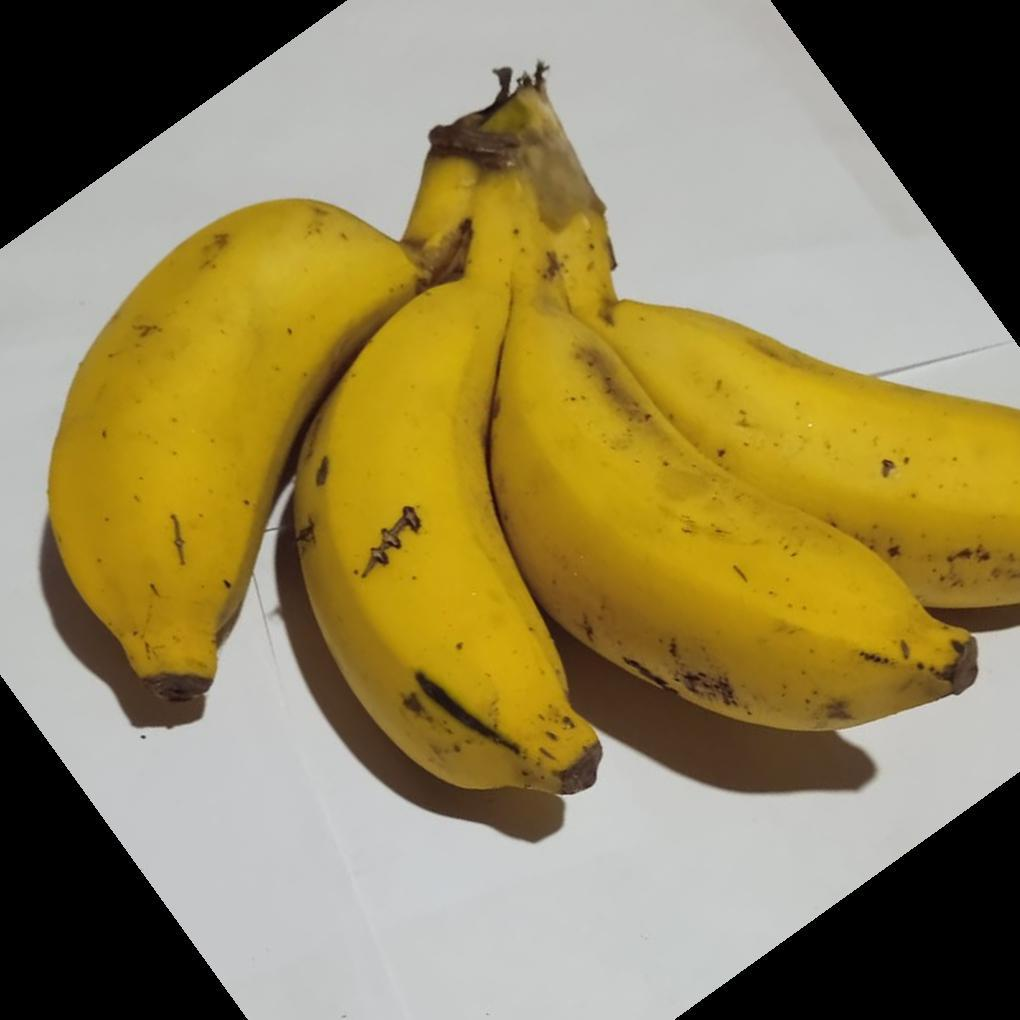Banana Ripe: (89, 119, 1020, 914), (495, 164, 987, 833), (568, 110, 1020, 716), (45, 193, 420, 777), (328, 139, 585, 846)
